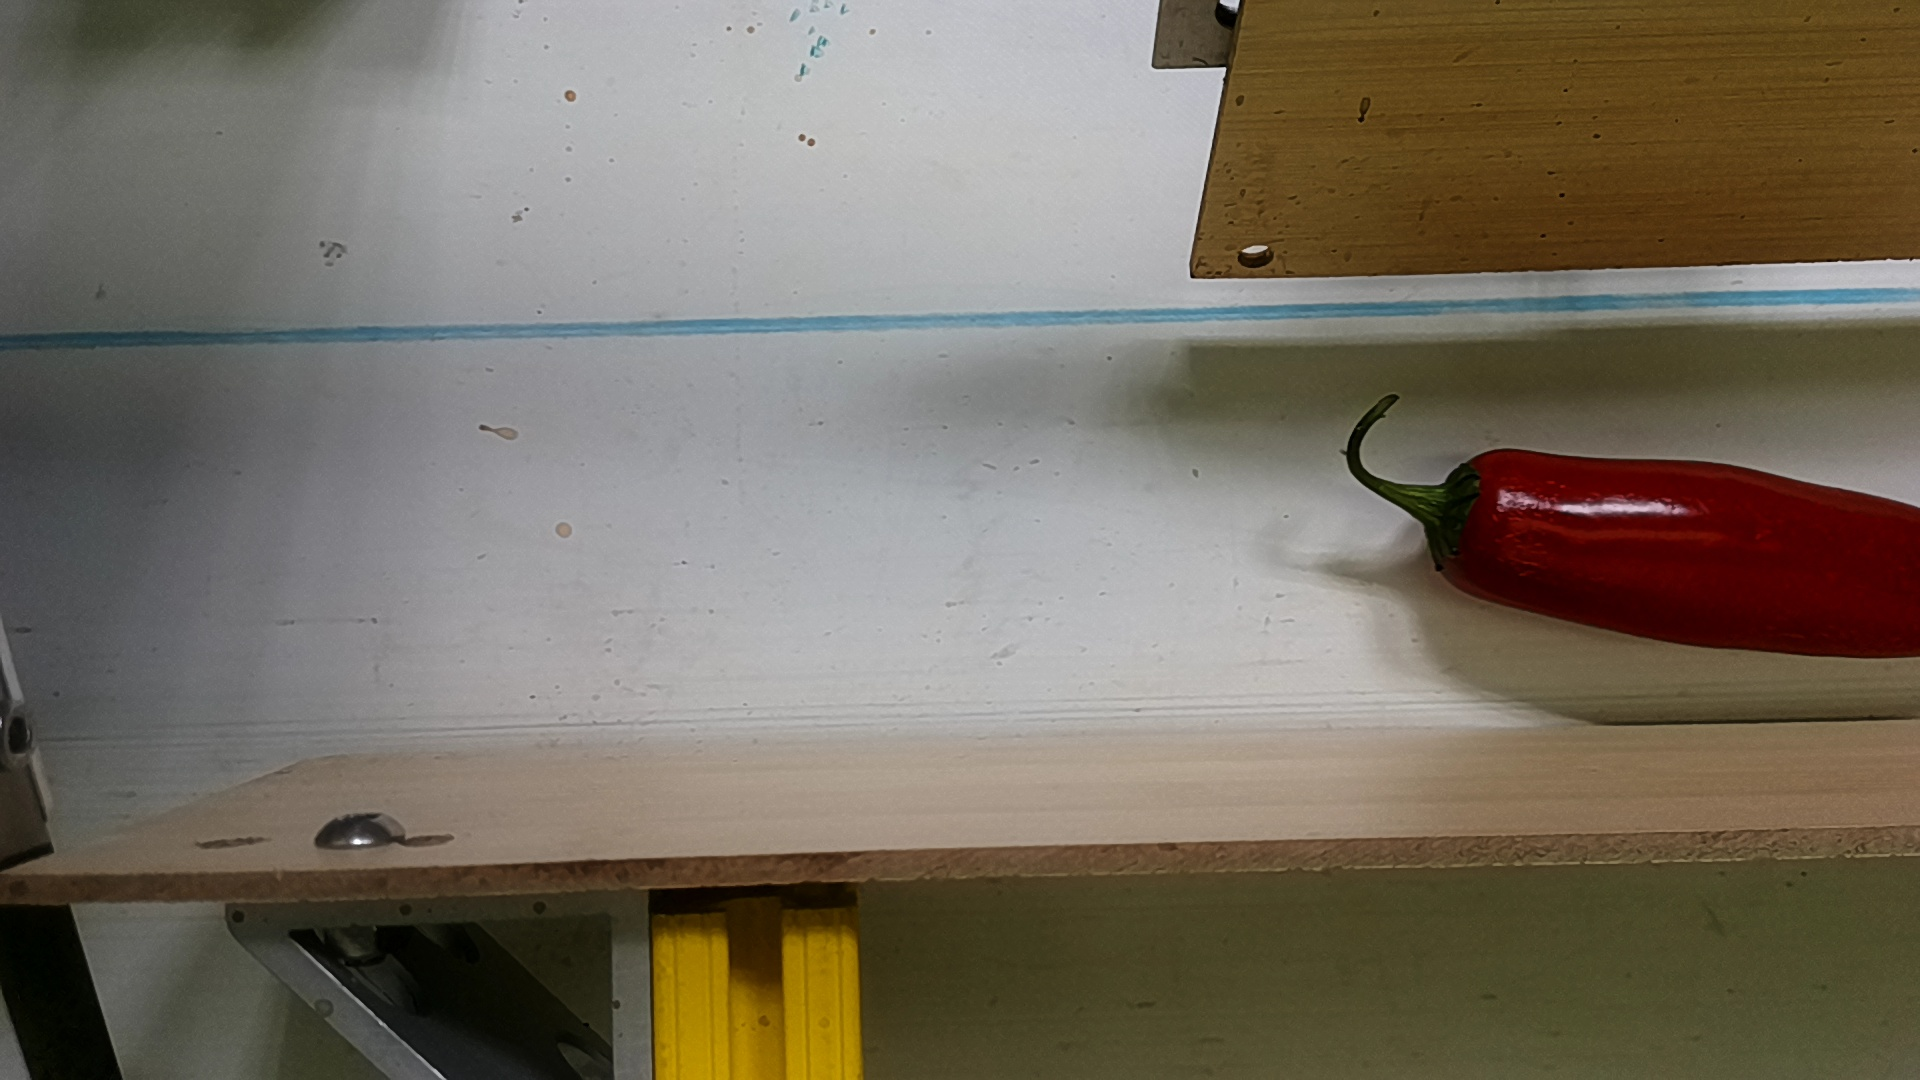Cut Point: (1418, 427, 1509, 615)
